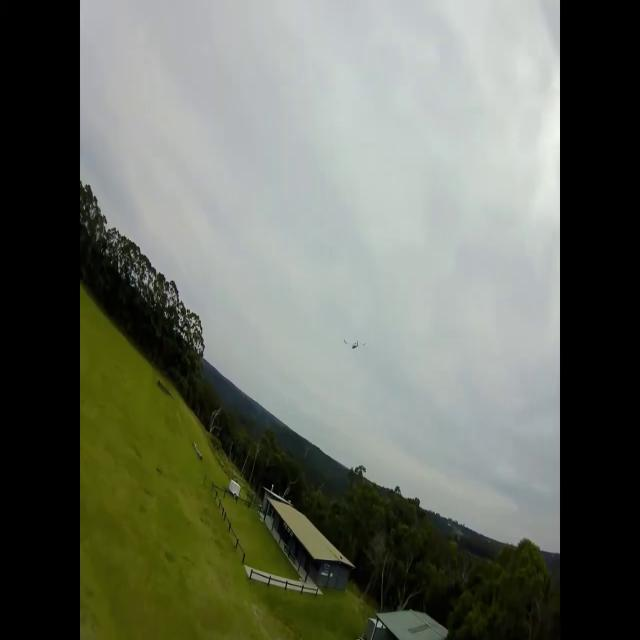iha: (343, 343, 367, 346)
